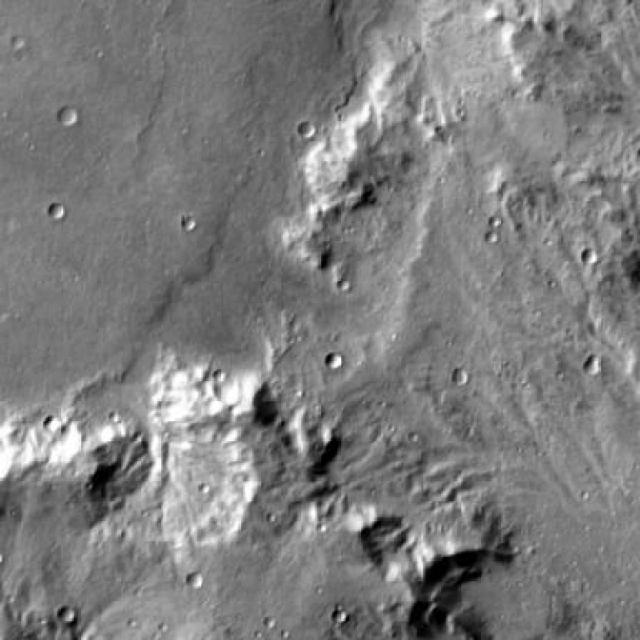crater: (418, 555, 558, 640), (45, 204, 67, 224), (56, 107, 78, 127), (582, 250, 600, 267), (326, 352, 343, 370), (300, 118, 318, 134)
